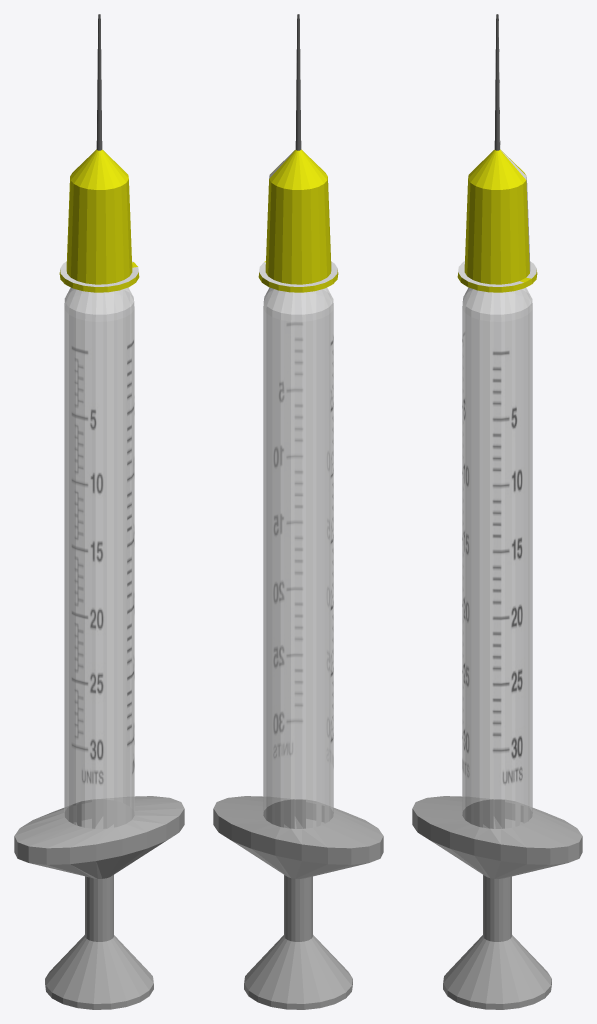
Rendered from SeringaBeta2.fbx.
The picture shows the model from 3 angles, left to right: view 1: azimuth 30°, elevation 25°; view 2: azimuth 150°, elevation 25°; view 3: azimuth 330°, elevation 25°; orthographic projection.
Visible parts, largest first — view 1: pCylinder1; view 2: pCylinder1; view 3: pCylinder1.
Boxes of the visible parts, x1,y1,x2,y2 form: pCylinder1: (14, 14, 184, 1009); pCylinder1: (213, 14, 383, 1009); pCylinder1: (412, 14, 582, 1009).
Bounding box in the file's own units: 2.24 × 12.71 × 1.3.
Materials: 6 (1 with a texture image).
